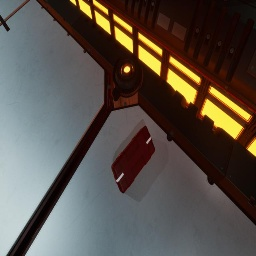FirstAidBox ,: (111, 126, 155, 193)
